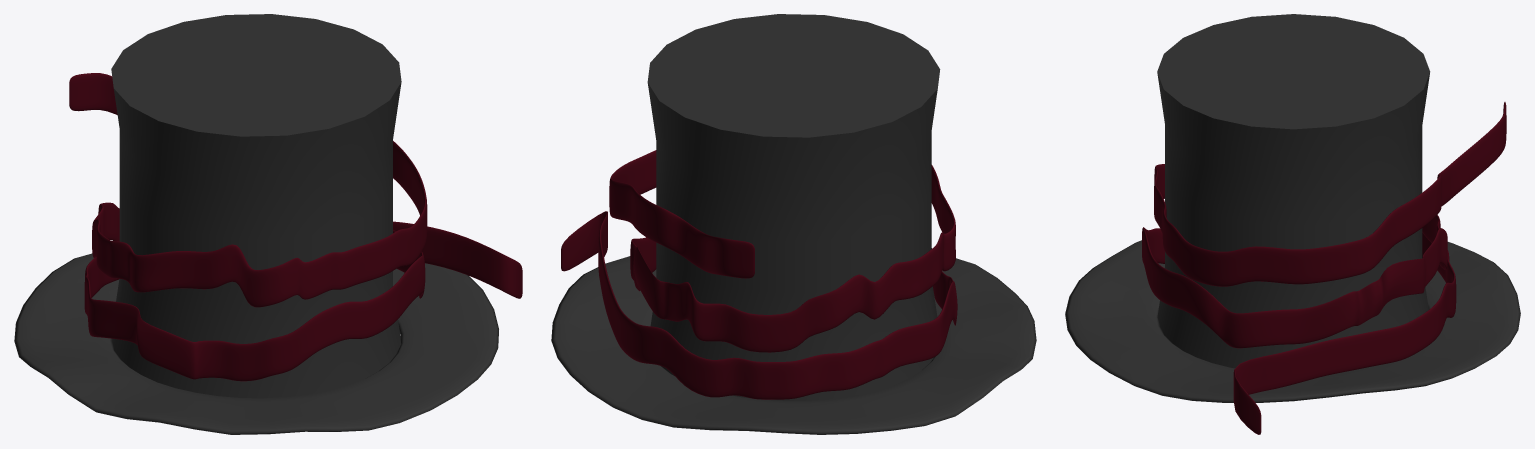
Rendered from hat.glb.
3 views of the same model, side by side, from view 1: azimuth 30°, elevation 25°; view 2: azimuth 150°, elevation 25°; view 3: azimuth 270°, elevation 25° (orthographic). The views are drawn at different scales.
Parts seen in each view (by area): view 1: polySurface2, nurbsToPoly2; view 2: polySurface2, nurbsToPoly2; view 3: polySurface2, nurbsToPoly2.
Part boxes in pixels (left/top/right/bottom): polySurface2: left=14, top=14, right=498, bottom=434; nurbsToPoly2: left=69, top=73, right=522, bottom=381; polySurface2: left=551, top=14, right=1036, bottom=434; nurbsToPoly2: left=561, top=150, right=957, bottom=399; polySurface2: left=1065, top=14, right=1520, bottom=402; nurbsToPoly2: left=1142, top=102, right=1506, bottom=434.
Bounding box in the file's own units: 0.0362 × 0.0203 × 0.0334.
